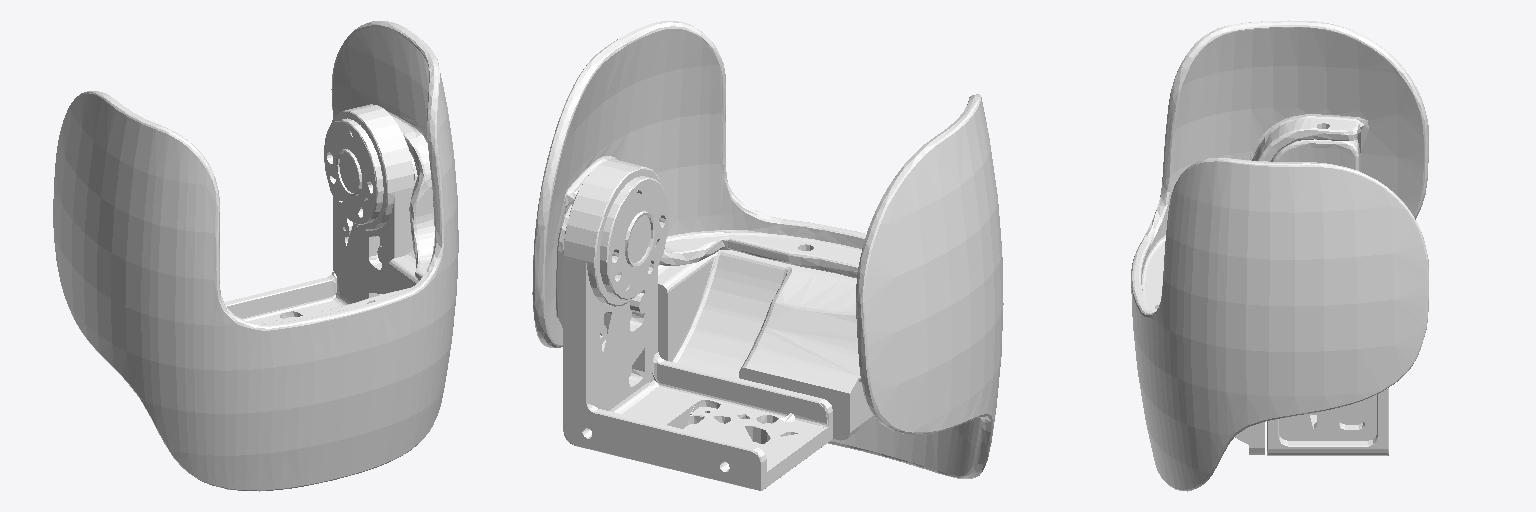
robot.urdf — biped_v3_arm:
<?xml version="1.0" ?>
<!-- =================================================================================== -->
<!-- |    This document was autogenerated by xacro from [local-path]/workspace/kuavo-ros-control/src/humanoid-control/humanoid_interface_drake/models/biped_gen4.0/urdf/biped_v3_arm.xacro | -->
<!-- |    EDITING THIS FILE BY HAND IS NOT RECOMMENDED                                 | -->
<!-- =================================================================================== -->
<robot name="biped_v3_arm" xmlns:drake="https://drake.mit.edu">
  <link name="torso">
    <inertial>
      <origin xyz="-0.00505 0.0014 0.18077" rpy="0 0 0" />
      <mass value="33.6709" />
      <inertia ixx="0.28214" ixy="3e-05" ixz="0.01114" iyy="0.20534" iyz="0.00044" izz="0.13735" />
    </inertial>
    <visual>
      <origin rpy="0 0 0" xyz="0 0 0"/>
      <geometry>
        <mesh filename="../../meshes/base_link.STL"/>
      </geometry>
      <material name="">
        <color rgba="0.43137 0.45098 0.43137 1"/>
      </material>
    </visual>
    <!-- <collision>
      <origin xyz="0 0 0" rpy="0 0 0" />
      <geometry>
        <mesh filename="../../meshes/base_link.STL" />
      </geometry>
    </collision> -->
  </link>
  <!-- =========================================================== Arms ================================================================= -->
  <link name="zarm_l1_link">
    <inertial>
      <origin xyz="0.008 -0.00158 0.0036" rpy="0 0 0" />
      <mass value="1.15" />
      <inertia ixx="0.0006" ixy="5e-05" ixz="1e-05" iyy="0.00048" iyz="-6e-05" izz="0.0007" />
    </inertial>
    <visual>
      <origin xyz="0 0 0" rpy="0 0 0" />
      <geometry>
        <mesh filename="../../meshes/l_arm_pitch.STL" />
      </geometry>
      <material name="">
        <color rgba="1 1 1 1" />
      </material>
    </visual>
  </link>
  <joint name="zarm_l1_joint" type="revolute">
    <origin xyz="-0.0175 0.25886 0.3245" rpy="0 0 0" />
    <parent link="torso" />
    <child link="zarm_l1_link" />
    <axis xyz="0 1 0" />
    <limit lower="-2.61799387799149" upper="0.523598775598299" effort="100.0" velocity="41.3433333333333" />
  </joint>
  <transmission type="SimpleTransmission">
    <joint name="zarm_l1_joint" />
    <actuator name="zarm_l1_joint_motor" />
  </transmission>
  <link name="zarm_l2_link">
    <inertial>
      <origin xyz="0.00144 0.02159 -0.0202" rpy="0 0 0" />
      <mass value="0.226" />
      <inertia ixx="0.0003" ixy="3e-05" ixz="1e-05" iyy="0.00061" iyz="5e-05" izz="0.00057" />
    </inertial>
    <visual>
      <origin xyz="0 0 0" rpy="0 0 0" />
      <geometry>
        <mesh filename="../../meshes/l_arm_roll.STL" />
      </geometry>
      <material name="">
        <color rgba="1 1 1 1" />
      </material>
    </visual>
  </link>
  <joint name="zarm_l2_joint" type="revolute">
    <origin xyz="0 0 0" rpy="0 0 0" />
    <parent link="zarm_l1_link" />
    <child link="zarm_l2_link" />
    <axis xyz="1 0 0" />
    <limit lower="-0.349065850398866" upper="2.0943951023932" effort="50.0" velocity="19.154" />
  </joint>
  <transmission type="SimpleTransmission">
    <joint name="zarm_l2_joint" />
    <actuator name="zarm_l2_joint_motor" />
  </transmission>
  <link name="zarm_l3_link">
    <inertial>
      <origin xyz="-0.00157 -3e-05 -0.13318" rpy="0 0 0" />
      <mass value="1.166" />
      <inertia ixx="0.00245" ixy="-1e-05" ixz="-1e-05" iyy="0.0022" iyz="0.0" izz="0.00112" />
    </inertial>
    <visual>
      <origin xyz="0 0 0" rpy="0 0 0" />
      <geometry>
        <mesh filename="../../meshes/l_arm_yaw.STL" />
      </geometry>
      <material name="">
        <color rgba="1 1 1 1" />
      </material>
    </visual>
  </link>
  <joint name="zarm_l3_joint" type="revolute">
    <origin xyz="0 0 0" rpy="0 0 0" />
    <parent link="zarm_l2_link" />
    <child link="zarm_l3_link" />
    <axis xyz="0 0 1" />
    <limit lower="-1.5707963267949" upper="1.5707963267949" effort="20.0" velocity="18.84" />
  </joint>
  <transmission type="SimpleTransmission">
    <joint name="zarm_l3_joint" />
    <actuator name="zarm_l3_joint_motor" />
  </transmission>
  <link name="zarm_l4_link">
    <inertial>
      <origin xyz="-4e-05 0.0098 -0.05283" rpy="0 0 0" />
      <mass value="0.575" />
      <inertia ixx="0.00098" ixy="0.0" ixz="0.0" iyy="0.00062" iyz="-0.00016" izz="0.00088" />
    </inertial>
    <visual>
      <origin xyz="0 0 0" rpy="0 0 0" />
      <geometry>
        <mesh filename="../../meshes/l_forearm.STL" />
      </geometry>
      <material name="">
        <color rgba="1 1 1 1" />
      </material>
    </visual>
  </link>
  <joint name="zarm_l4_joint" type="revolute">
    <origin xyz="0 0 -0.1646" rpy="0 0 0" />
    <parent link="zarm_l3_link" />
    <child link="zarm_l4_link" />
    <axis xyz="0 1 0" />
    <limit lower="-1.5707963267949" upper="0.0" effort="20.0" velocity="18.84" />
  </joint>
  <transmission type="SimpleTransmission">
    <joint name="zarm_l4_joint" />
    <actuator name="zarm_l4_joint_motor" />
  </transmission>
  <link name="zarm_l5_link">
    <inertial>
      <origin xyz="-0.00011 0.00421 -0.11168" rpy="0 0 0" />
      <mass value="0.46" />
      <inertia ixx="0.00077" ixy="0.0" ixz="0.0" iyy="0.0005" iyz="-4e-05" izz="0.00063" />
    </inertial>
    <visual>
      <origin xyz="0 0 0" rpy="0 0 0" />
      <geometry>
        <mesh filename="../../meshes/l_hand_yaw.STL" />
      </geometry>
      <material name="">
        <color rgba="1 1 1 1" />
      </material>
    </visual>
  </link>
  <joint name="zarm_l5_joint" type="revolute">
    <origin xyz="0 0 0" rpy="0 0 0" />
    <parent link="zarm_l4_link" />
    <child link="zarm_l5_link" />
    <axis xyz="0 0 1" />
    <limit lower="-1.5707963267949" upper="1.5707963267949" effort="6.0" velocity="21.666" />
  </joint>
  <transmission type="SimpleTransmission">
    <joint name="zarm_l5_joint" />
    <actuator name="zarm_l5_joint_motor" />
  </transmission>
  <link name="zarm_l6_link">
    <inertial>
      <origin xyz="0.00253 0.00382 -0.05356" rpy="0 0 0" />
      <mass value="0.35" />
      <inertia ixx="0.00023" ixy="0.0" ixz="0.0" iyy="0.00024" iyz="-4e-05" izz="0.00019" />
    </inertial>
    <visual>
      <origin xyz="0 0 0" rpy="0 0 0" />
      <geometry>
        <mesh filename="../../meshes/l_hand_pitch.STL" />
      </geometry>
      <material name="">
        <color rgba="1 1 1 1" />
      </material>
    </visual>
  </link>
  <joint name="zarm_l6_joint" type="revolute">
    <origin xyz="0 0 -0.132050000125748" rpy="0 0 0" />
    <parent link="zarm_l5_link" />
    <child link="zarm_l6_link" />
    <axis xyz="0 1 0" />
    <limit lower="-1.5707963267949" upper="1.5707963267949" effort="6.0" velocity="21.666" />
  </joint>
  <transmission type="SimpleTransmission">
    <joint name="zarm_l6_joint" />
    <actuator name="zarm_l6_joint_motor" />
  </transmission>
  <link name="zarm_l7_link">
    <inertial>
      <origin xyz="0.00267 0.00748 -0.07162" rpy="0 0 0" />
      <mass value="0.81" />
      <inertia ixx="0.00117" ixy="2e-05" ixz="0.0" iyy="0.00128" iyz="-2e-05" izz="0.00036" />
    </inertial>
    <visual>
      <origin xyz="0 0 0" rpy="0 0 0" />
      <geometry>
        <mesh filename="../../meshes/l_hand_roll.STL" />
      </geometry>
      <material name="">
        <color rgba="1 1 1 1" />
      </material>
    </visual>
  </link>
  <joint name="zarm_l7_joint" type="revolute">
    <origin xyz="0 0 -0.0589999999999999" rpy="0 0 0" />
    <parent link="zarm_l6_link" />
    <child link="zarm_l7_link" />
    <axis xyz="1 0 0" />
    <limit lower="-1.5707963267949" upper="1.5707963267949" effort="6.0" velocity="21.666" />
  </joint>
  <transmission type="SimpleTransmission">
    <joint name="zarm_l7_joint" />
    <actuator name="zarm_l7_joint_motor" />
  </transmission>
  <!-- right arm -->
  <link name="zarm_r1_link">
    <inertial>
      <origin xyz="0.008 0.00158 -0.0036" rpy="0 0 0" />
      <mass value="1.15" />
      <inertia ixx="0.0006" ixy="-5e-05" ixz="-1e-05" iyy="0.00048" iyz="-6e-05" izz="0.0007" />
    </inertial>
    <visual>
      <origin xyz="0 0 0" rpy="0 0 0" />
      <geometry>
        <mesh filename="../../meshes/r_arm_pitch.STL" />
      </geometry>
      <material name="">
        <color rgba="1 1 1 1" />
      </material>
    </visual>
  </link>
  <joint name="zarm_r1_joint" type="revolute">
    <origin xyz="-0.0175 -0.25886 0.3245" rpy="0 0 0" />
    <parent link="torso" />
    <child link="zarm_r1_link" />
    <axis xyz="0 1 0" />
    <limit lower="-2.61799387799149" upper="0.523598775598299" effort="100.0" velocity="41.3433333333333" />
  </joint>
  <transmission type="SimpleTransmission">
    <joint name="zarm_r1_joint" />
    <actuator name="zarm_r1_joint_motor" />
  </transmission>
  <link name="zarm_r2_link">
    <inertial>
      <origin xyz="0.00144 -0.02159 -0.02021" rpy="0 0 0" />
      <mass value="0.226" />
      <inertia ixx="0.0003" ixy="-3e-05" ixz="1e-05" iyy="0.00061" iyz="-5e-05" izz="0.00057" />
    </inertial>
    <visual>
      <origin xyz="0 0 0" rpy="0 0 0" />
      <geometry>
        <mesh filename="../../meshes/r_arm_roll.STL" />
      </geometry>
      <material name="">
        <color rgba="1 1 1 1" />
      </material>
    </visual>
  </link>
  <joint name="zarm_r2_joint" type="revolute">
    <origin xyz="0 0 0" rpy="0 0 0" />
    <parent link="zarm_r1_link" />
    <child link="zarm_r2_link" />
    <axis xyz="1 0 0" />
    <limit lower="-2.0943951023932" upper="0.349065850398866" effort="50.0" velocity="19.154" />
  </joint>
  <transmission type="SimpleTransmission">
    <joint name="zarm_r2_joint" />
    <actuator name="zarm_r2_joint_motor" />
  </transmission>
  <link name="zarm_r3_link">
    <inertial>
      <origin xyz="-0.00157 3e-05 -0.13318" rpy="0 0 0" />
      <mass value="1.166" />
      <inertia ixx="0.00245" ixy="1e-05" ixz="-1e-05" iyy="0.0022" iyz="0.0" izz="0.00112" />
    </inertial>
    <visual>
      <origin xyz="0 0 0" rpy="0 0 0" />
      <geometry>
        <mesh filename="../../meshes/r_arm_yaw.STL" />
      </geometry>
      <material name="">
        <color rgba="1 1 1 1" />
      </material>
    </visual>
  </link>
  <joint name="zarm_r3_joint" type="revolute">
    <origin xyz="0 0 0" rpy="0 0 0" />
    <parent link="zarm_r2_link" />
    <child link="zarm_r3_link" />
    <axis xyz="0 0 1" />
    <limit lower="-1.5707963267949" upper="1.5707963267949" effort="20.0" velocity="18.84" />
  </joint>
  <transmission type="SimpleTransmission">
    <joint name="zarm_r3_joint" />
    <actuator name="zarm_r3_joint_motor" />
  </transmission>
  <link name="zarm_r4_link">
    <inertial>
      <origin xyz="-4e-05 -0.0098 -0.05283" rpy="0 0 0" />
      <mass value="0.575" />
      <inertia ixx="0.00098" ixy="0.0" ixz="0.0" iyy="0.00062" iyz="0.00016" izz="0.00088" />
    </inertial>
    <visual>
      <origin xyz="0 0 0" rpy="0 0 0" />
      <geometry>
        <mesh filename="../../meshes/r_forearm.STL" />
      </geometry>
      <material name="">
        <color rgba="1 1 1 1" />
      </material>
    </visual>
  </link>
  <joint name="zarm_r4_joint" type="revolute">
    <origin xyz="0 0 -0.1646" rpy="0 0 0" />
    <parent link="zarm_r3_link" />
    <child link="zarm_r4_link" />
    <axis xyz="0 1 0" />
    <limit lower="-1.5707963267949" upper="0.0" effort="20.0" velocity="18.84" />
  </joint>
  <transmission type="SimpleTransmission">
    <joint name="zarm_r4_joint" />
    <actuator name="zarm_r4_joint_motor" />
  </transmission>
  <link name="zarm_r5_link">
    <inertial>
      <origin xyz="-0.00011 -0.00421 -0.11168" rpy="0 0 0" />
      <mass value="0.46" />
      <inertia ixx="0.00077" ixy="0.0" ixz="0.0" iyy="0.0005" iyz="4e-05" izz="0.00063" />
    </inertial>
    <visual>
      <origin xyz="0 0 0" rpy="0 0 0" />
      <geometry>
        <mesh filename="../../meshes/r_hand_yaw.STL" />
      </geometry>
      <material name="">
        <color rgba="1 1 1 1" />
      </material>
    </visual>
  </link>
  <joint name="zarm_r5_joint" type="revolute">
    <origin xyz="0 0 0" rpy="0 0 0" />
    <parent link="zarm_r4_link" />
    <child link="zarm_r5_link" />
    <axis xyz="0 0 1" />
    <limit lower="-1.5707963267949" upper="1.5707963267949" effort="6.0" velocity="21.666" />
  </joint>
  <transmission type="SimpleTransmission">
    <joint name="zarm_r5_joint" />
    <actuator name="zarm_r5_joint_motor" />
  </transmission>
  <link name="zarm_r6_link">
    <inertial>
      <origin xyz="0.00253 -0.00382 -0.05356" rpy="0 0 0" />
      <mass value="0.35" />
      <inertia ixx="0.00023" ixy="0.0" ixz="0.0" iyy="0.00024" iyz="4e-05" izz="0.00019" />
    </inertial>
    <visual>
      <origin xyz="0 0 0" rpy="0 0 0" />
      <geometry>
        <mesh filename="../../meshes/r_hand_pitch.STL" />
      </geometry>
      <material name="">
        <color rgba="1 1 1 1" />
      </material>
    </visual>
  </link>
  <joint name="zarm_r6_joint" type="revolute">
    <origin xyz="0 0 -0.132050000240097" rpy="0 0 0" />
    <parent link="zarm_r5_link" />
    <child link="zarm_r6_link" />
    <axis xyz="0 1 0" />
    <limit lower="-1.5707963267949" upper="1.5707963267949" effort="6.0" velocity="21.666" />
  </joint>
  <transmission type="SimpleTransmission">
    <joint name="zarm_r6_joint" />
    <actuator name="zarm_r6_joint_motor" />
  </transmission>
  <link name="zarm_r7_link">
    <inertial>
      <origin xyz="0.00267 -0.00748 -0.07162" rpy="0 0 0" />
      <mass value="0.81" />
      <inertia ixx="0.00098" ixy="-1e-05" ixz="1e-05" iyy="0.00104" iyz="1e-05" izz="0.00027" />
    </inertial>
    <visual>
      <origin xyz="0 0 0" rpy="0 0 0" />
      <geometry>
        <mesh filename="../../meshes/r_hand_roll.STL" />
      </geometry>
      <material name="">
        <color rgba="1 1 1 1" />
      </material>
    </visual>
  </link>
  <joint name="zarm_r7_joint" type="revolute">
    <origin xyz="0 0 -0.0589999999999999" rpy="0 0 0" />
    <parent link="zarm_r6_link" />
    <child link="zarm_r7_link" />
    <axis xyz="1 0 0" />
    <limit lower="-1.5707963267949" upper="1.5707963267949" effort="6.0" velocity="21.666" />
  </joint>
  <transmission type="SimpleTransmission">
    <joint name="zarm_r7_joint" />
    <actuator name="zarm_r7_joint_motor" />
  </transmission>
  <!-- end frame -->
  <!-- <frame link="l_hand_pitch" name="l_hand_sole" xyz="0 0 -0.1" /> -->
  <!-- end frame -->
  <!-- <frame link="r_hand_pitch" name="r_hand_sole" xyz="0 0 -0.1" /> -->
</robot>

--- Render facts (derived) ---
3 views of the same robot in one strip: view 1: azimuth 30°, elevation 25°; view 2: azimuth 150°, elevation 25°; view 3: azimuth 270°, elevation 25° (orthographic).
Model biped_v3_arm with 15 links and 14 joints (14 revolute), rooted at torso, posed every joint at zero.
Links seen in each view (by area): view 1: zarm_r2_link; view 2: zarm_r2_link; view 3: zarm_r2_link.
Boxes of the visible links, x1,y1,x2,y2 form: zarm_r2_link: (53, 21, 458, 491); zarm_r2_link: (532, 21, 1003, 490); zarm_r2_link: (1131, 20, 1428, 491).
Bounding box of the posed robot: 0.1253 × 0.0975 × 0.1289 m (x, y, z).
Meshes: 15 distinct files referenced, 1 mesh visuals loaded (1 binary STL); not drawn: 13 (reference not matched to a file when rendering), 1 (file found but could not be loaded).